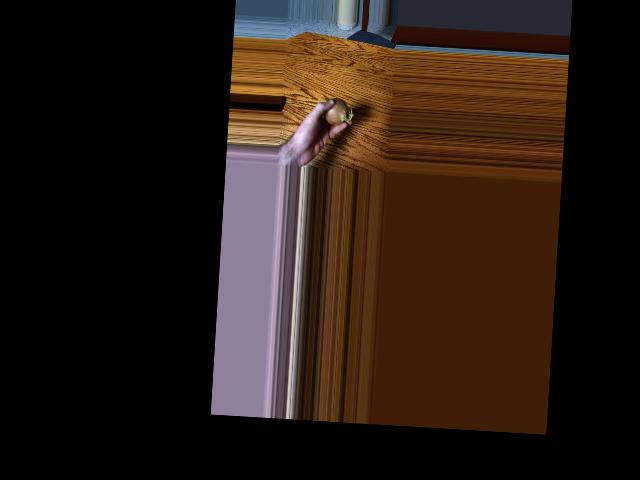onion: (322, 97, 349, 124)
